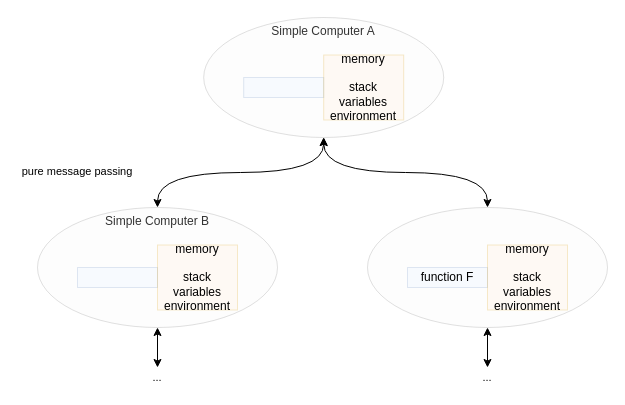
This 625x405 diagram has some shape labels left out. The shapes that lost their labels are listed below. From the top down, each one's box as (x1, y1, x2, y2) in pixels, then its label:
(243, 76, 324, 98): function A
(76, 266, 158, 288): function B
(366, 206, 608, 328): Simple Computer F
